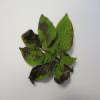Potato leaf early blight: (24, 60, 59, 84), (55, 13, 73, 53), (18, 45, 50, 66), (38, 14, 56, 48), (20, 29, 43, 49)
